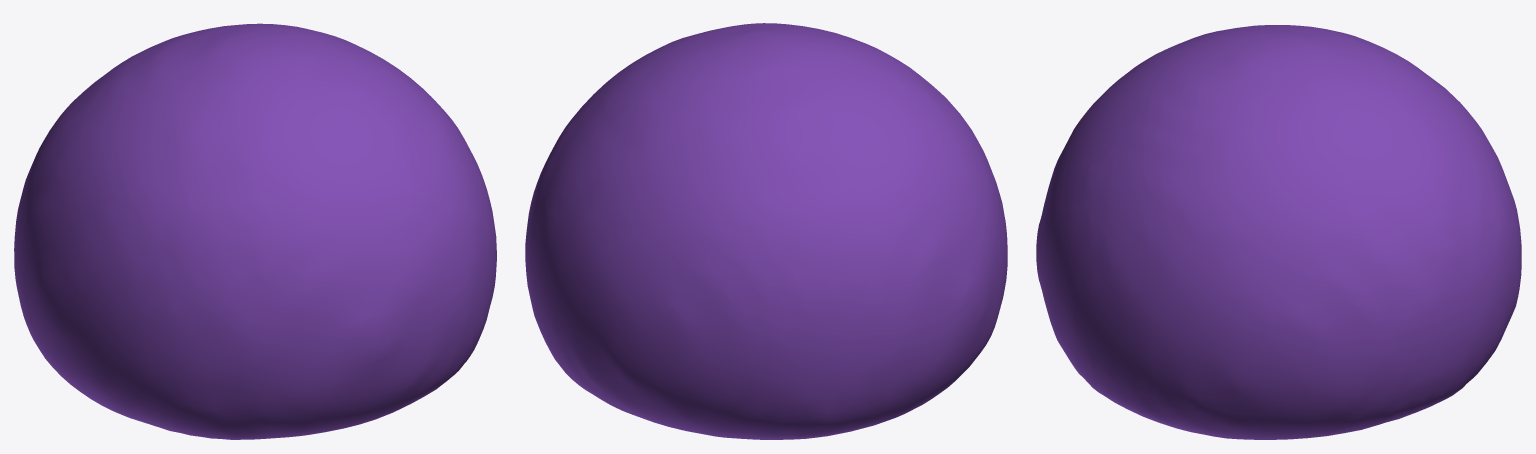
The model's file is slime_0009.dae.
3 views of the same model, side by side, from view 1: azimuth 30°, elevation 25°; view 2: azimuth 150°, elevation 25°; view 3: azimuth 270°, elevation 25° (orthographic).
Parts seen in each view (by area): view 1: Slime; view 2: Slime; view 3: Slime.
Boxes of the visible parts, box(x1,y1,x2,y2) form: Slime: box(14, 23, 496, 439); Slime: box(525, 23, 1007, 439); Slime: box(1036, 25, 1521, 439).
Size of the model in its own units: 2.06 by 1.7 by 2.06.
